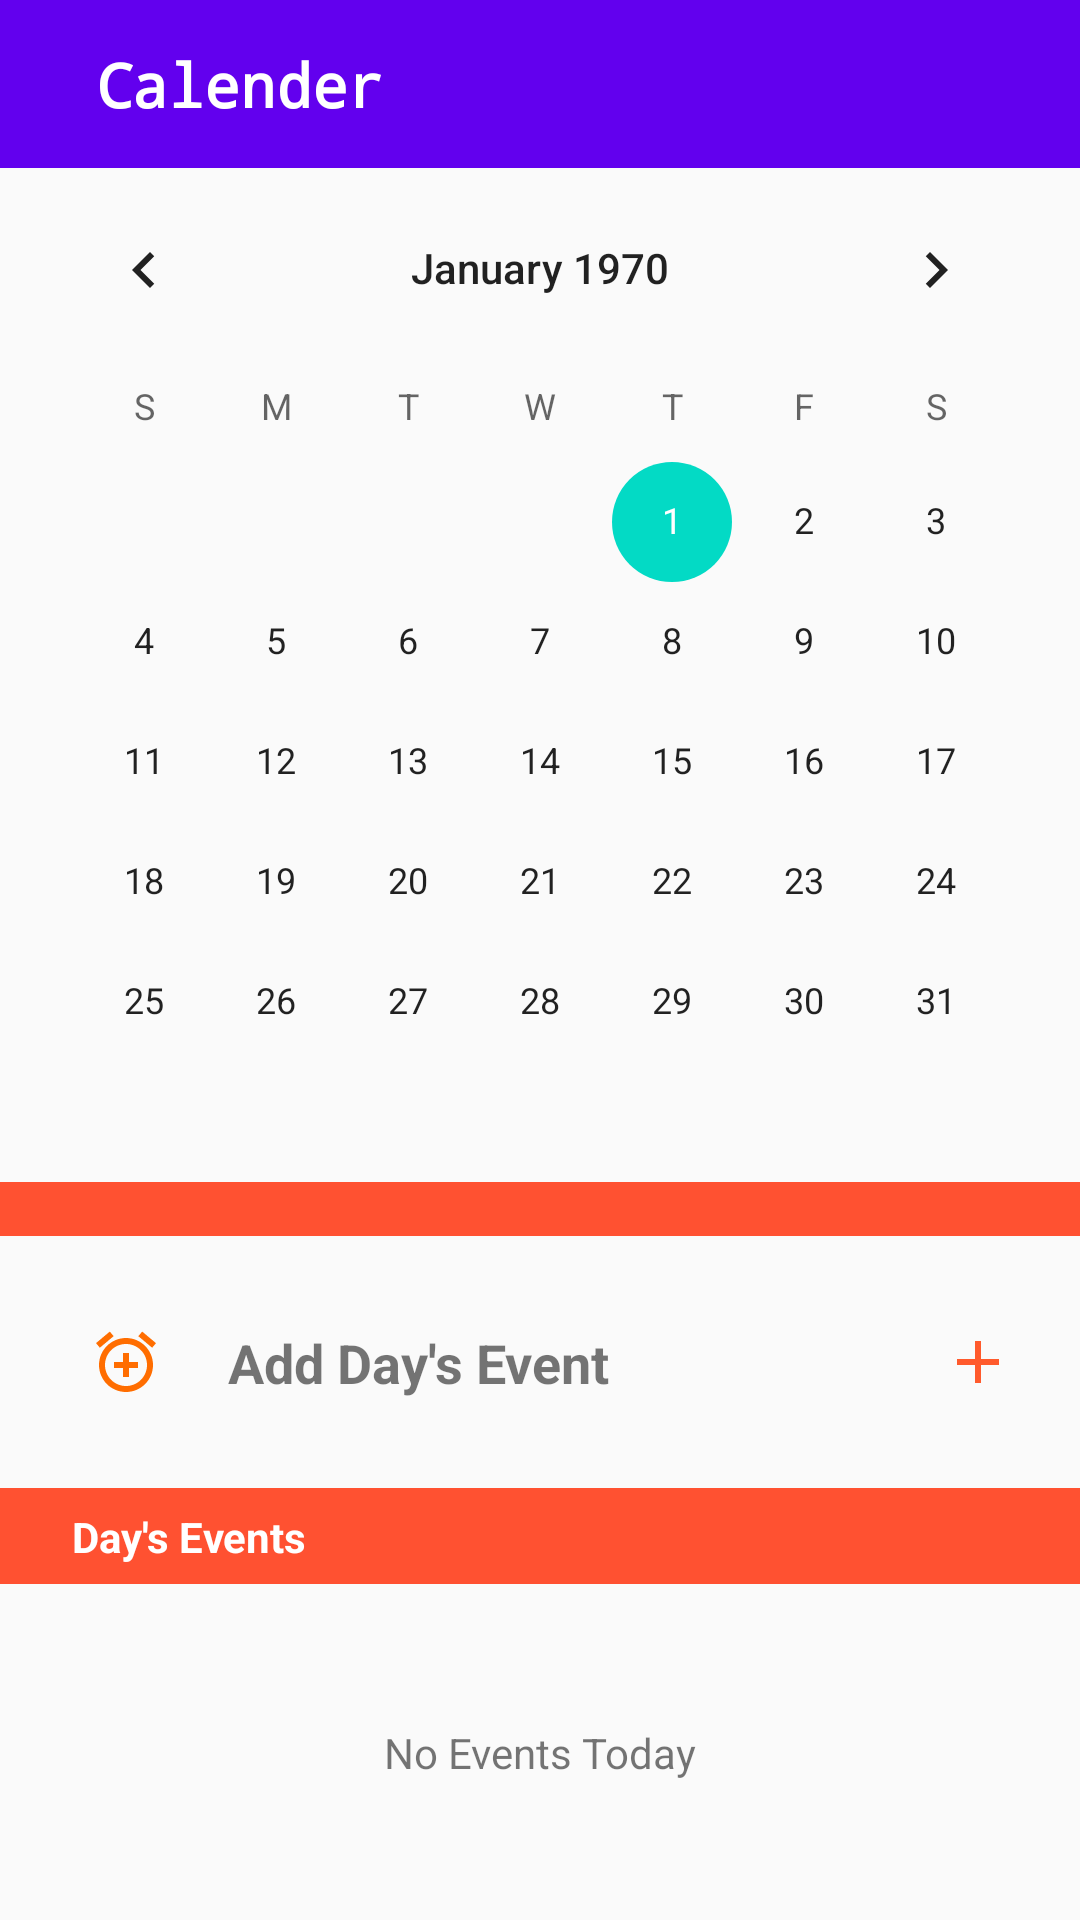

Icon click points for this 1080px x 1920px phone screenshot, format (x,y):
add: (978,1362)
add alarm: (126,1361)
